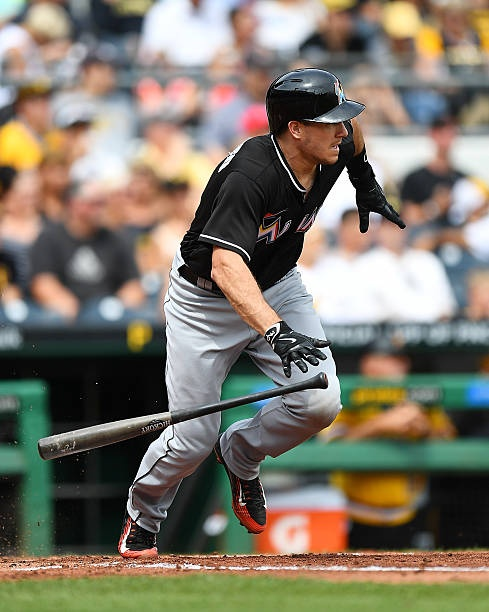bita: (40, 374, 322, 458)
